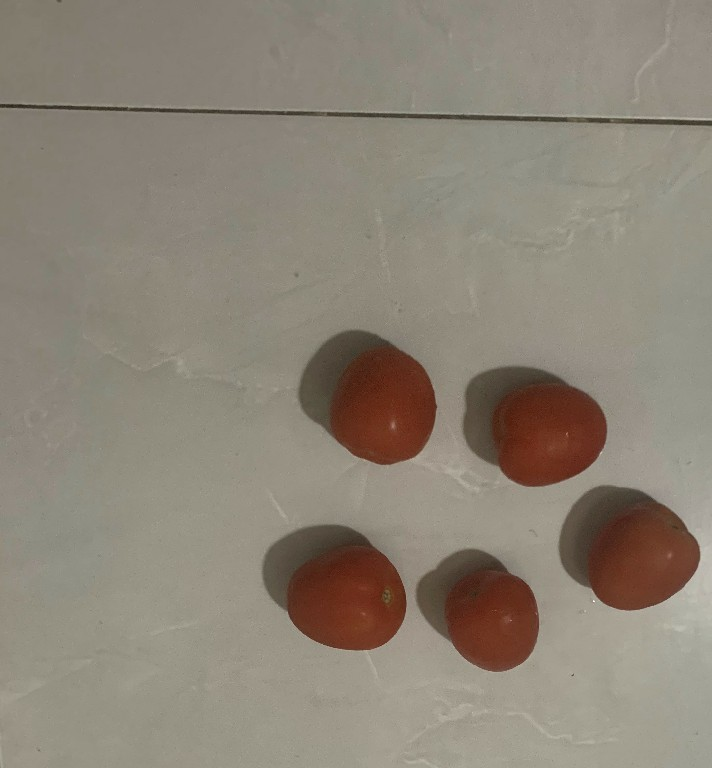OK: (325, 341, 440, 468), (286, 545, 416, 655), (489, 375, 608, 491), (588, 497, 701, 618), (442, 563, 544, 672)
